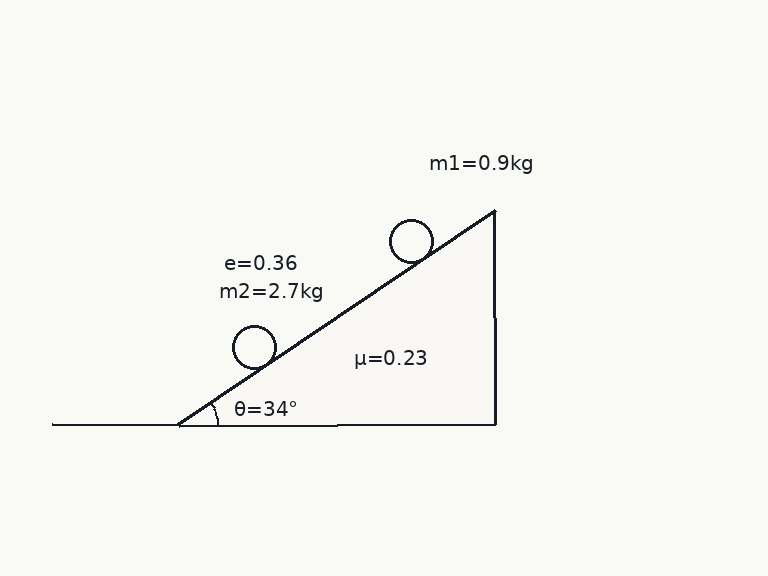ball: (387, 217, 435, 265), (230, 323, 278, 371)
ramp: (176, 209, 497, 427)
